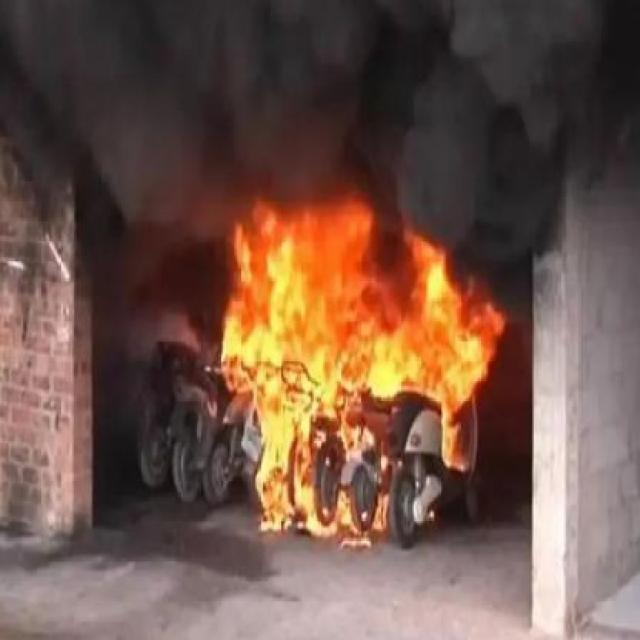Fire: (225, 202, 498, 398), (336, 214, 487, 411), (251, 213, 320, 532), (440, 286, 466, 466), (337, 486, 354, 536)
Smoke: (17, 1, 596, 222), (392, 6, 551, 269), (225, 5, 372, 209)
